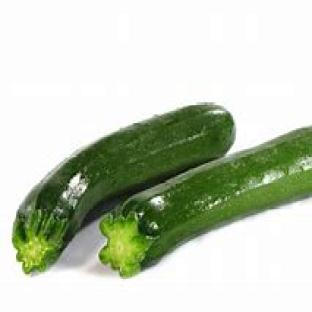Zucchini: (14, 105, 234, 272), (100, 129, 311, 275)
